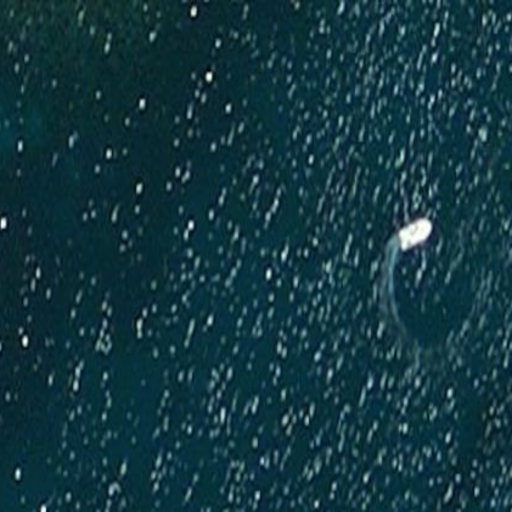ship: (395, 215, 434, 252)
